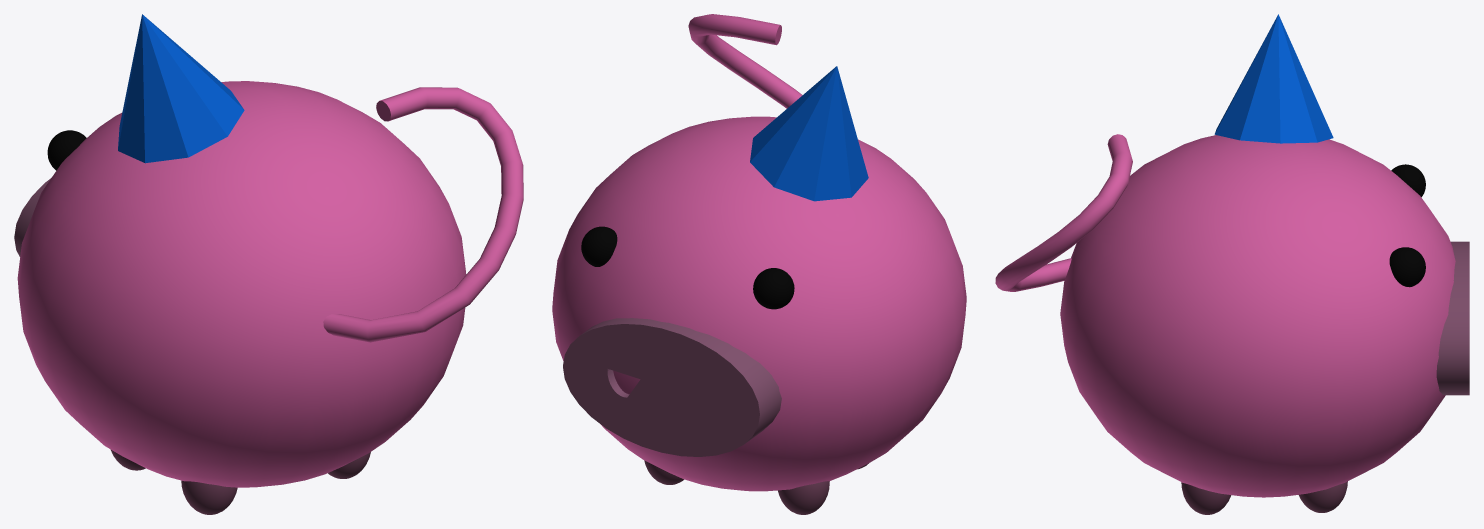
The model's file is LittlePig.obj.
3 renders of one model, left to right at view 1: azimuth 30°, elevation 25°; view 2: azimuth 150°, elevation 25°; view 3: azimuth 270°, elevation 25°, orthographic. The views are drawn at different scales.
Parts seen in each view (by area): view 1: body, hat, tail, leg_lb, lefteye, nose; view 2: body, nose, hat, tail, lefteye, leg_lf, righteye; view 3: body, hat, tail, nose, righteye, leg_rb, leg_rf, lefteye.
Boxes of the visible parts, bbox=[...] form: body: bbox=[17, 81, 466, 487]; hat: bbox=[118, 14, 244, 163]; tail: bbox=[323, 87, 523, 342]; leg_lb: bbox=[181, 480, 237, 514]; lefteye: bbox=[47, 130, 86, 170]; nose: bbox=[14, 178, 50, 256]; body: bbox=[552, 116, 966, 491]; nose: bbox=[563, 318, 781, 456]; hat: bbox=[750, 66, 868, 201]; tail: bbox=[688, 14, 802, 108]; lefteye: bbox=[753, 268, 794, 309]; leg_lf: bbox=[778, 481, 829, 514]; righteye: bbox=[581, 226, 617, 266]; body: bbox=[1060, 135, 1455, 497]; hat: bbox=[1214, 14, 1333, 143]; tail: bbox=[995, 134, 1132, 291]; nose: bbox=[1436, 241, 1469, 395]; righteye: bbox=[1389, 247, 1425, 287]; leg_rb: bbox=[1181, 482, 1231, 514]; leg_rf: bbox=[1299, 481, 1347, 512]; lefteye: bbox=[1391, 164, 1425, 197].
Size of the model in its own units: 2 by 2.32 by 2.33.
